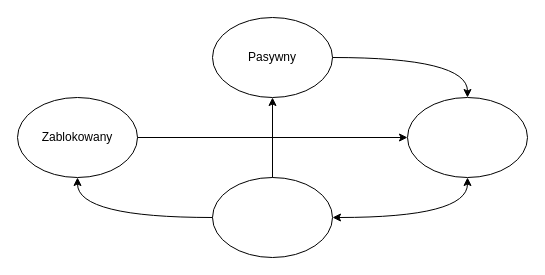
Image size: 545x275. Some labels were removed from this diagram. Each missing label, with the centre of its shape:
W kolejce na wykonywanie: pixel 467 137
Wykonywany: pixel 272 217
